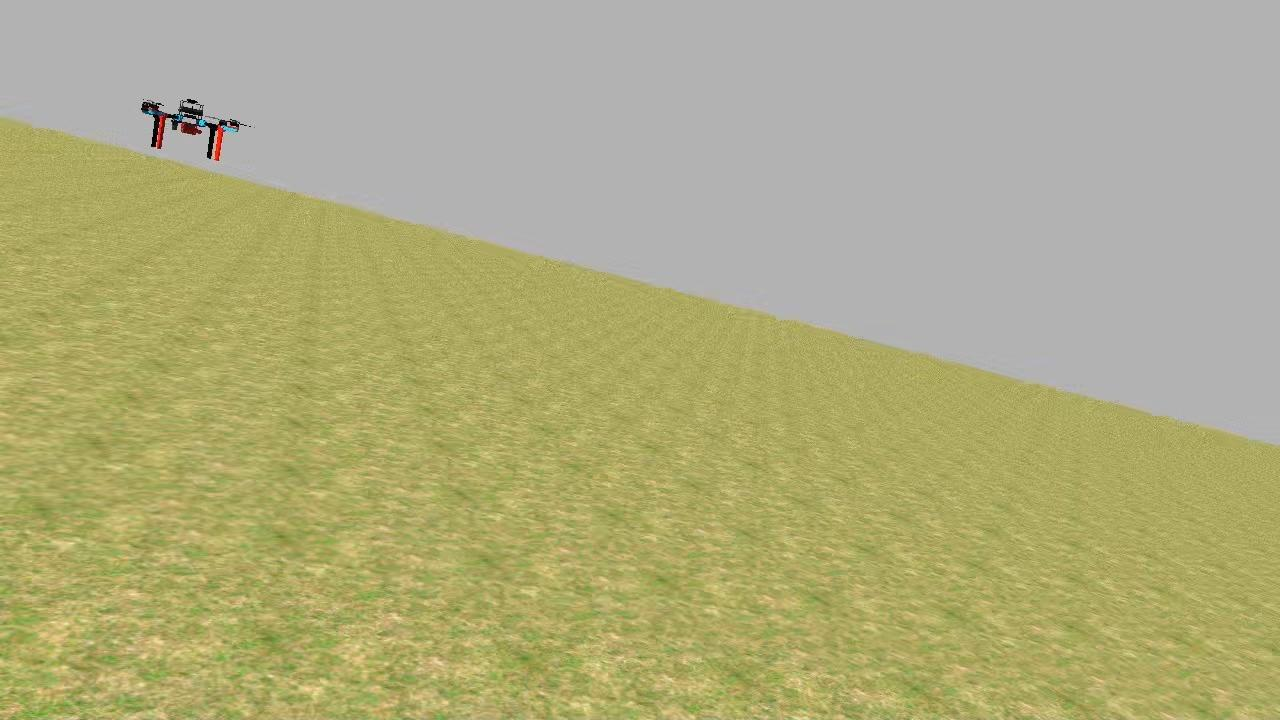UAV: (140, 86, 244, 168)
